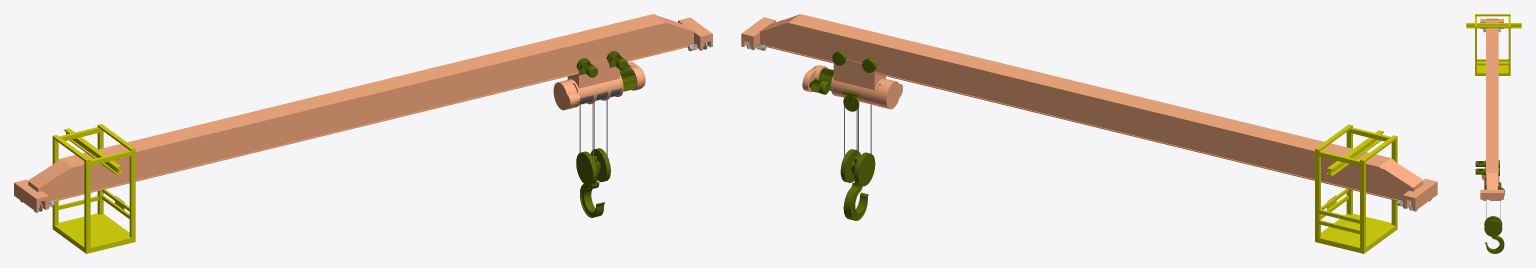
The picture shows the model from 3 angles, left to right: view 1: azimuth 30°, elevation 25°; view 2: azimuth 150°, elevation 25°; view 3: azimuth 270°, elevation 25°; orthographic projection. The views are drawn at different scales.
Parts seen in each view (by area): view 1: Body_1, 3DGeom-1231, 3DGeom-2706, 3DGeom-2704, 3DGeom-258, 3DGeom-616, 3DGeom-2707, Body_124; view 2: Body_1, 3DGeom-1231, 3DGeom-2706, 3DGeom-2704, 3DGeom-258, 3DGeom-616, Body_124; view 3: Body_1, 3DGeom-1231, 3DGeom-2706, 3DGeom-616, Body_124, 3DGeom-2704, 3DGeom-258.
Boxes of the visible parts, <box> form: Body_1: <box>60,14,665,197</box>; 3DGeom-1231: <box>52,124,135,253</box>; 3DGeom-2706: <box>576,51,636,217</box>; 3DGeom-2704: <box>553,59,645,110</box>; 3DGeom-258: <box>14,159,72,211</box>; 3DGeom-616: <box>654,14,712,52</box>; 3DGeom-2707: <box>579,88,620,163</box>; Body_124: <box>64,128,122,174</box>; Body_1: <box>788,14,1390,196</box>; 3DGeom-1231: <box>1315,124,1397,253</box>; 3DGeom-2706: <box>809,50,876,220</box>; 3DGeom-2704: <box>802,59,902,109</box>; 3DGeom-258: <box>1379,158,1437,210</box>; 3DGeom-616: <box>741,14,799,52</box>; Body_124: <box>1326,130,1383,176</box>; Body_1: <box>1486,20,1498,188</box>; 3DGeom-1231: <box>1475,14,1510,75</box>; 3DGeom-2706: <box>1475,160,1504,253</box>; 3DGeom-616: <box>1480,173,1503,199</box>; Body_124: <box>1466,23,1521,28</box>; 3DGeom-2704: <box>1481,167,1504,200</box>; 3DGeom-258: <box>1480,18,1503,28</box>.
Size of the model in its own units: 16.3 by 4.54 by 2.18.
